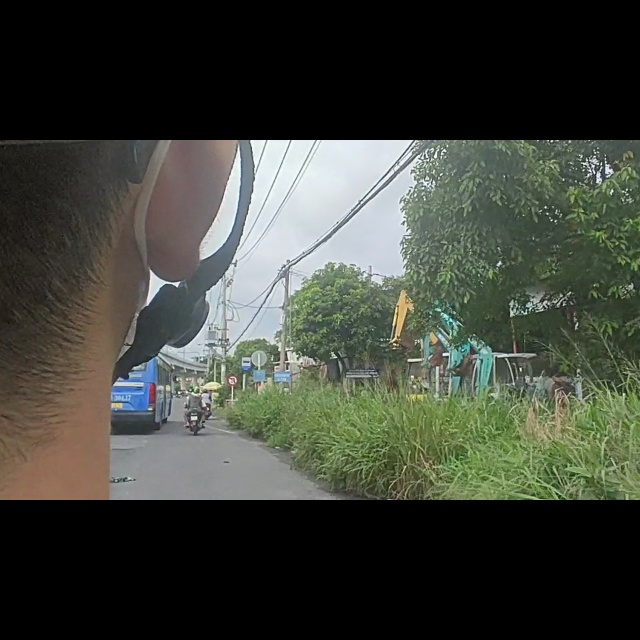bien_cam: (241, 385, 253, 412), (227, 418, 238, 437)
